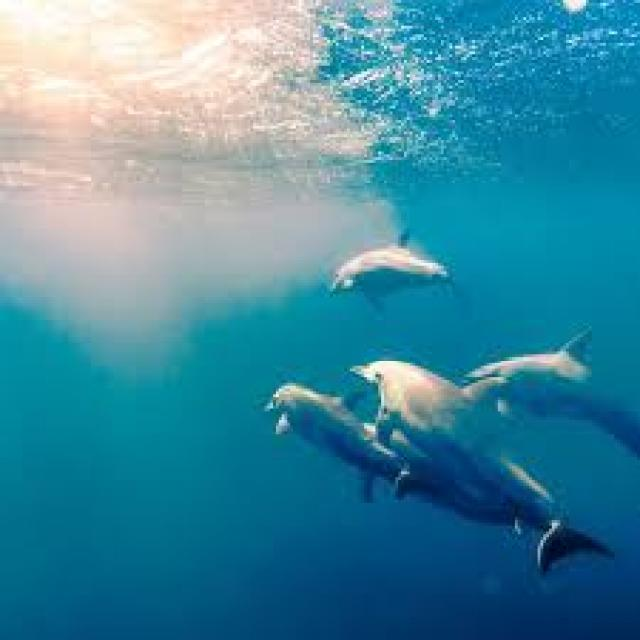dolphin: (372, 346, 604, 608), (309, 200, 486, 334), (470, 328, 640, 466)
